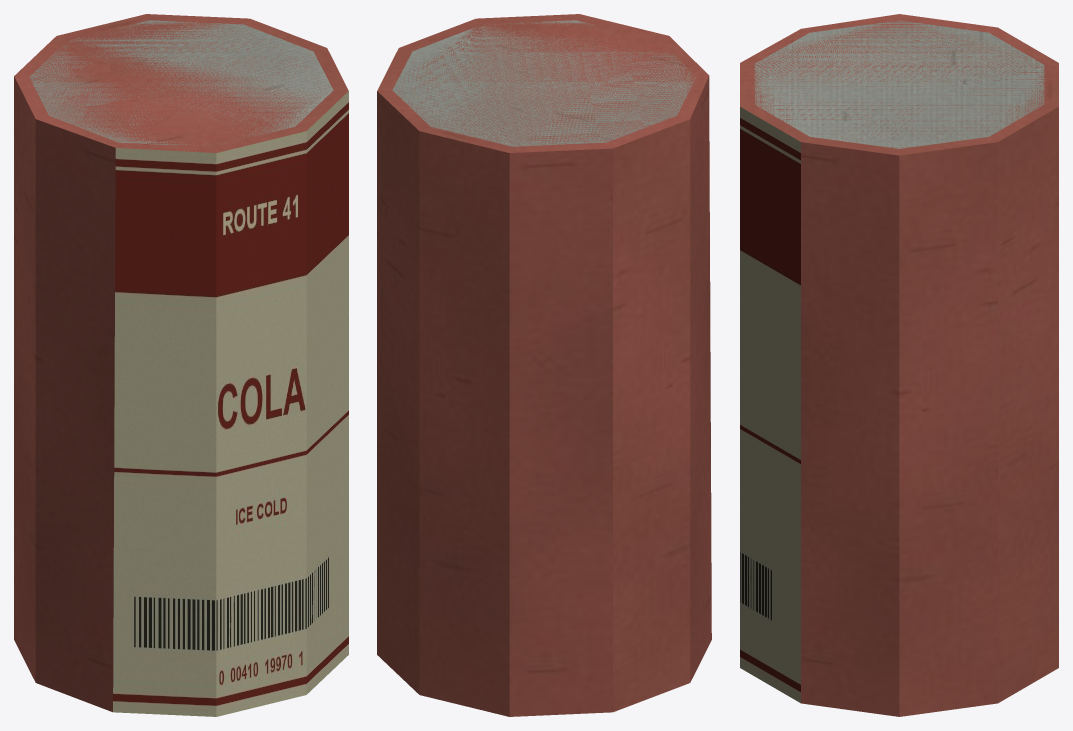
The model's file is sodacan_v3.glb.
3 renders of one model, left to right at view 1: azimuth 30°, elevation 25°; view 2: azimuth 150°, elevation 25°; view 3: azimuth 270°, elevation 25°, orthographic.
Parts seen in each view (by area): view 1: Variant_sodacan_3; view 2: Variant_sodacan_3; view 3: Variant_sodacan_3.
Part boxes in pixels (x1=…): Variant_sodacan_3: x1=14, y1=14, x2=348, y2=716; Variant_sodacan_3: x1=377, y1=14, x2=711, y2=716; Variant_sodacan_3: x1=740, y1=14, x2=1058, y2=716.
Size of the model in its own units: 0.066 by 0.122 by 0.0628.
3 materials, 3 textured.
